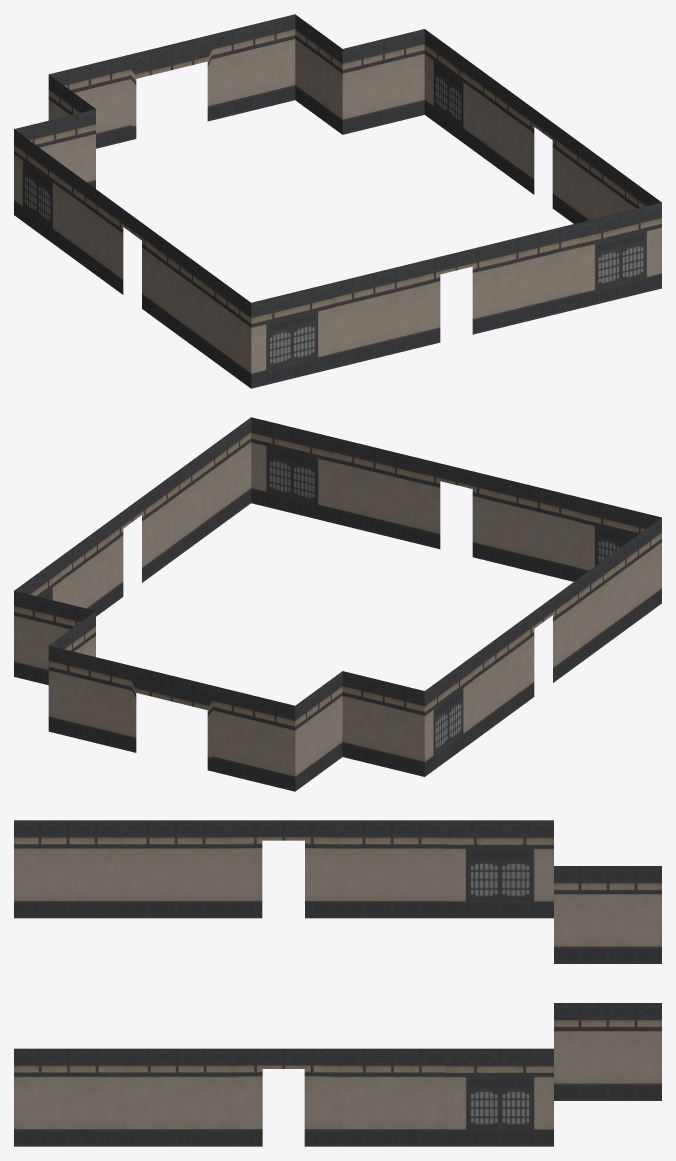
File: Homeworld_Interior_Dq_Room_P_Filling_01_Vo.fbx
3 renders of one model, top to bottom at view 1: azimuth 30°, elevation 25°; view 2: azimuth 150°, elevation 25°; view 3: azimuth 270°, elevation 25°, orthographic. The views are drawn at different scales.
Visible parts, largest first — view 1: Homeworld_Interior_Dq_Room_P_Filling_01_Vo; view 2: Homeworld_Interior_Dq_Room_P_Filling_01_Vo; view 3: Homeworld_Interior_Dq_Room_P_Filling_01_Vo.
Part boxes in pixels (x1,y1,x2,y2): Homeworld_Interior_Dq_Room_P_Filling_01_Vo: (14,14,661,388); Homeworld_Interior_Dq_Room_P_Filling_01_Vo: (14,417,661,791); Homeworld_Interior_Dq_Room_P_Filling_01_Vo: (14,820,661,1146).
Size of the model in its own units: 25 by 5 by 30.
